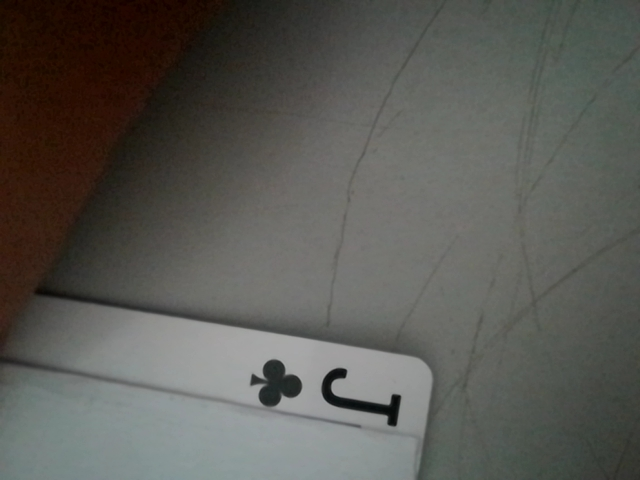mh j: (236, 348, 414, 429)
